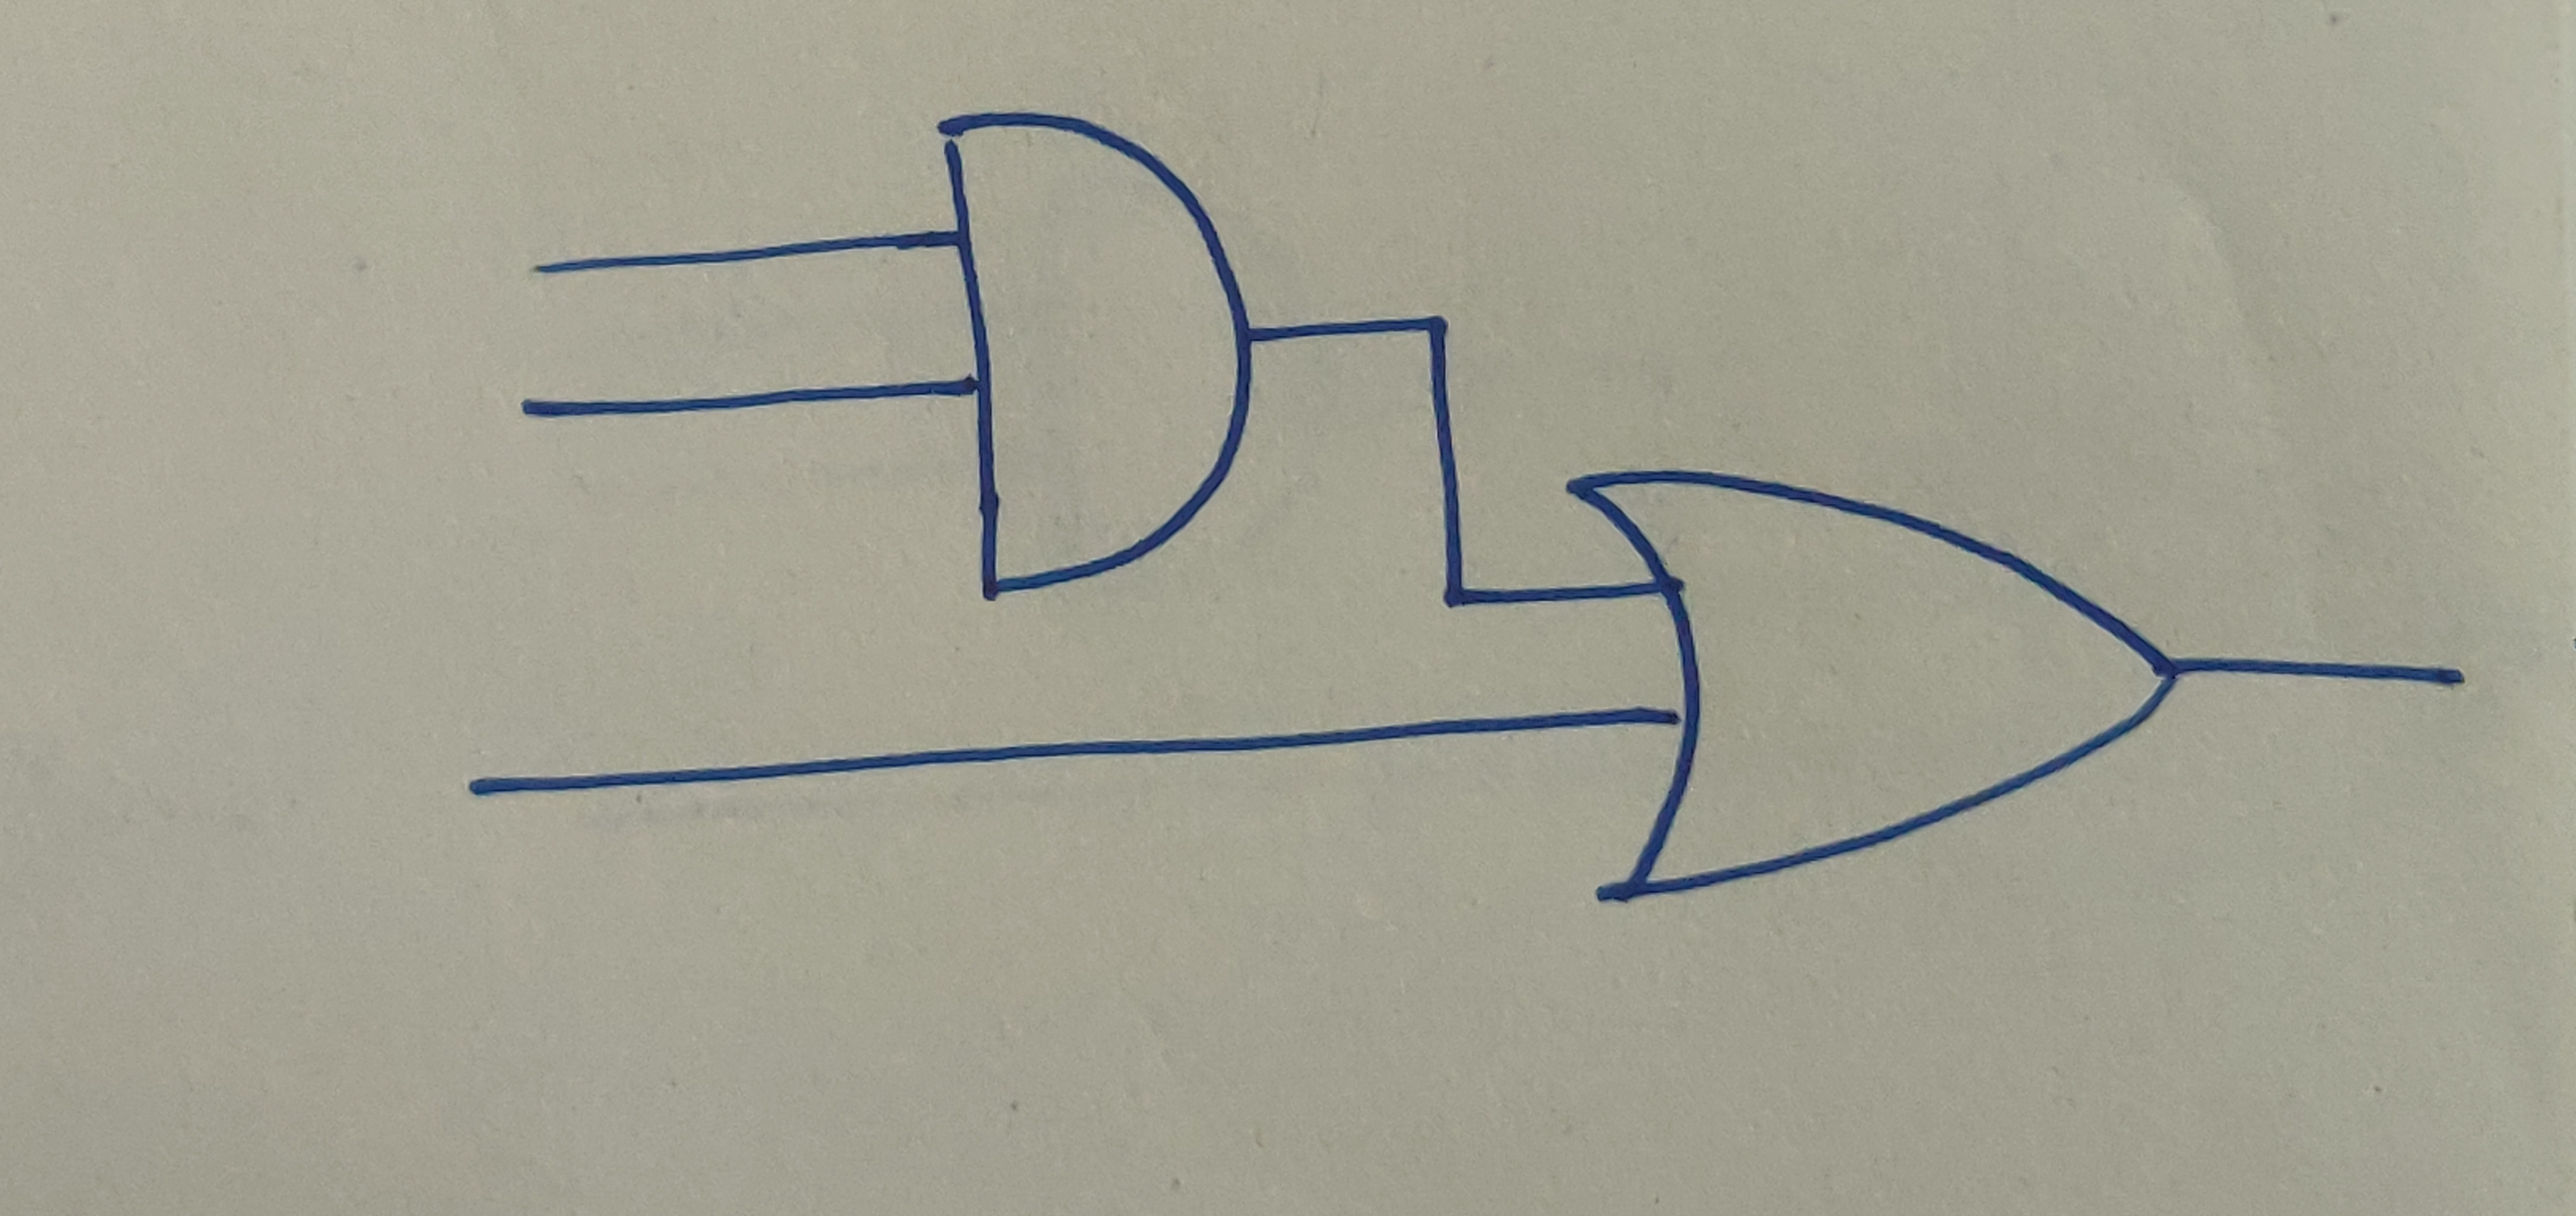and: (930, 105, 1265, 601)
or: (1554, 463, 2185, 907)
